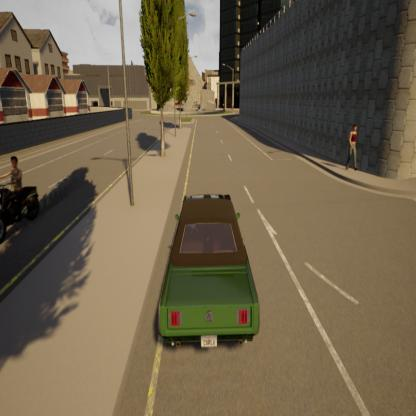Cars: (148, 182, 268, 358)
Pedestrian: (342, 120, 364, 176)
